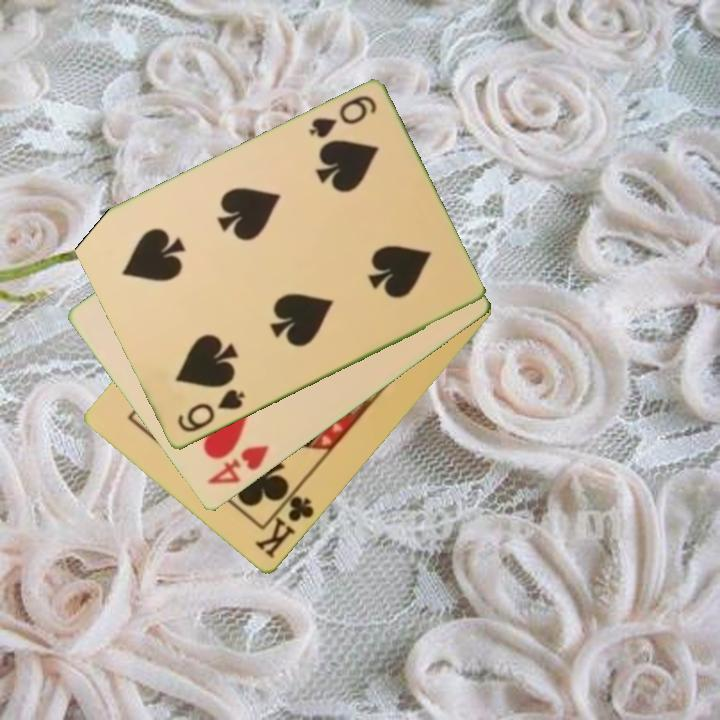4h: (204, 442, 272, 488)
6s: (173, 386, 248, 436), (305, 92, 380, 142)
Kc: (252, 483, 317, 563)
